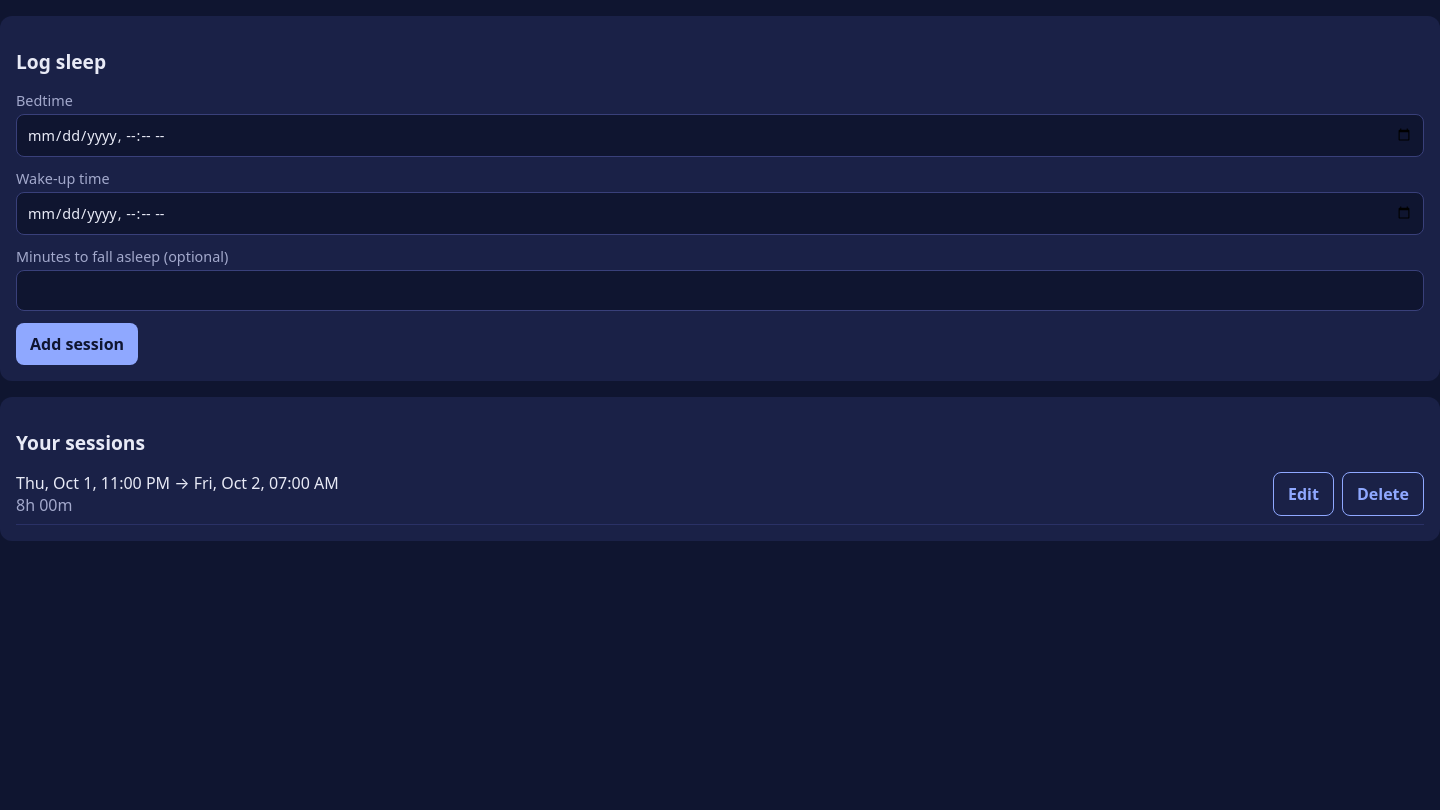
Scenario: SleepSessions › edits a session with PUT
Click the button "Edit" at (1303, 494), box x1=1273 y1=472 x2=1334 y2=516
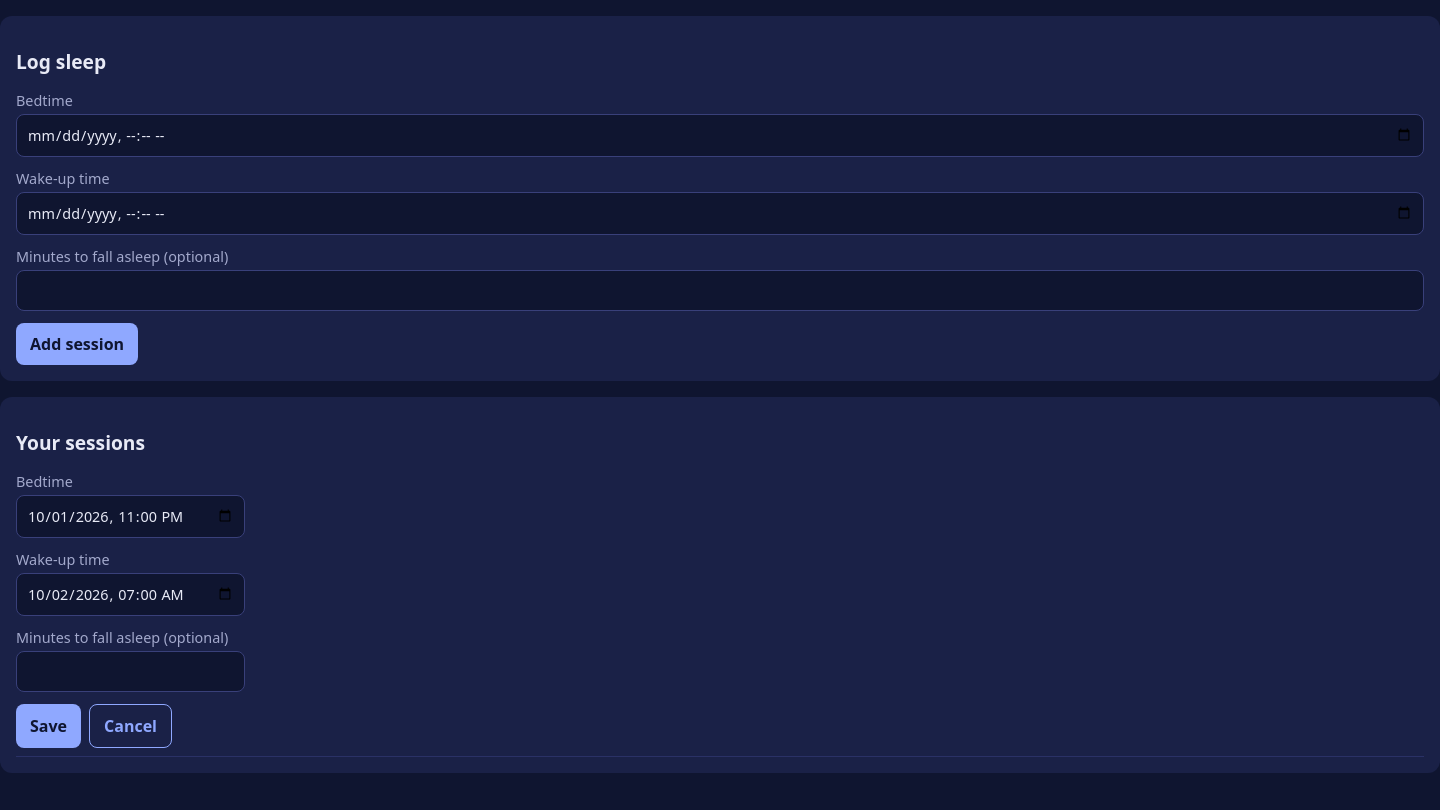
Replace the text in the field labelled "Wake-up time" below "Your sessions" with "2026-10-02T06:30" at (130, 594), box x1=16 y1=573 x2=245 y2=616
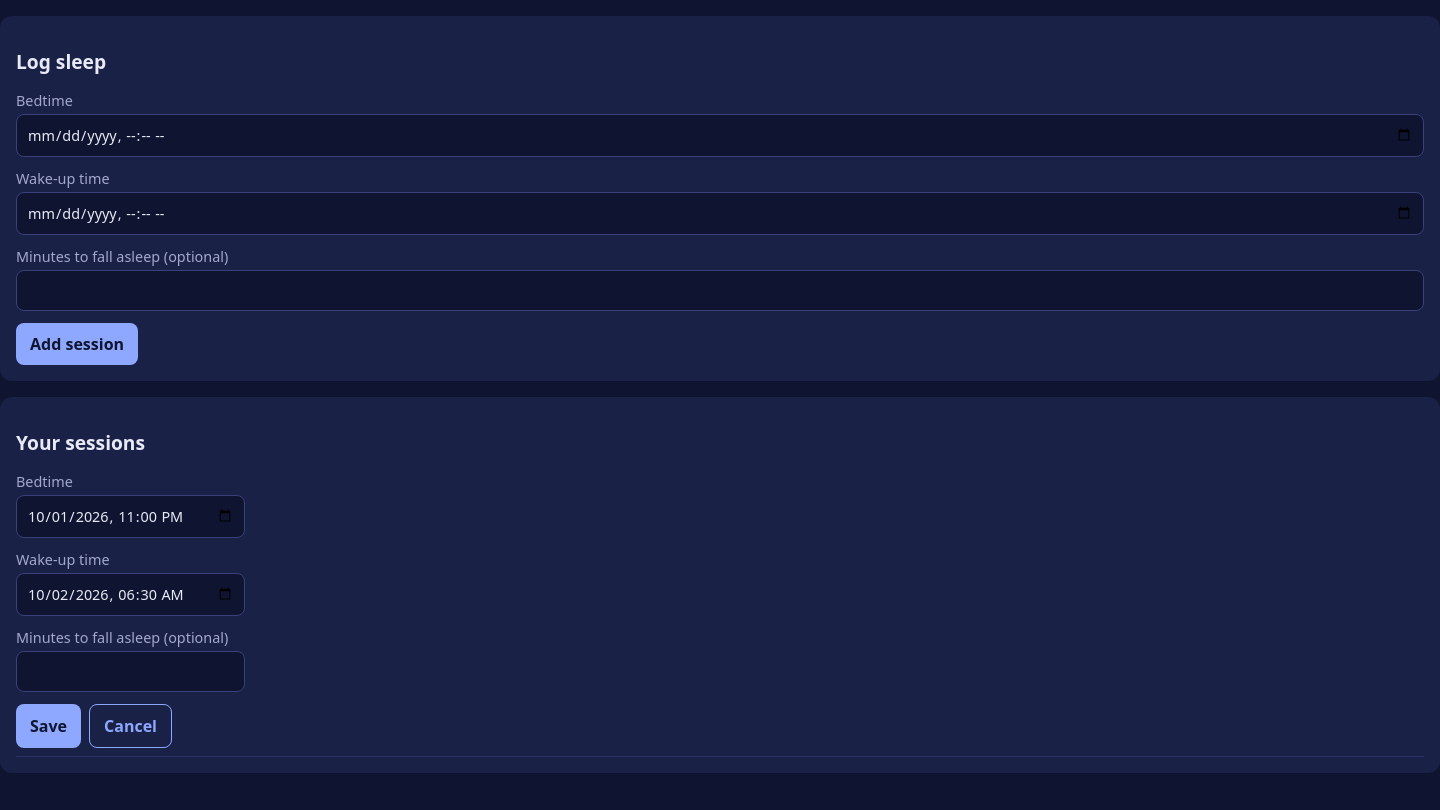
Click the button "Save" at (48, 726), box x1=16 y1=704 x2=81 y2=748
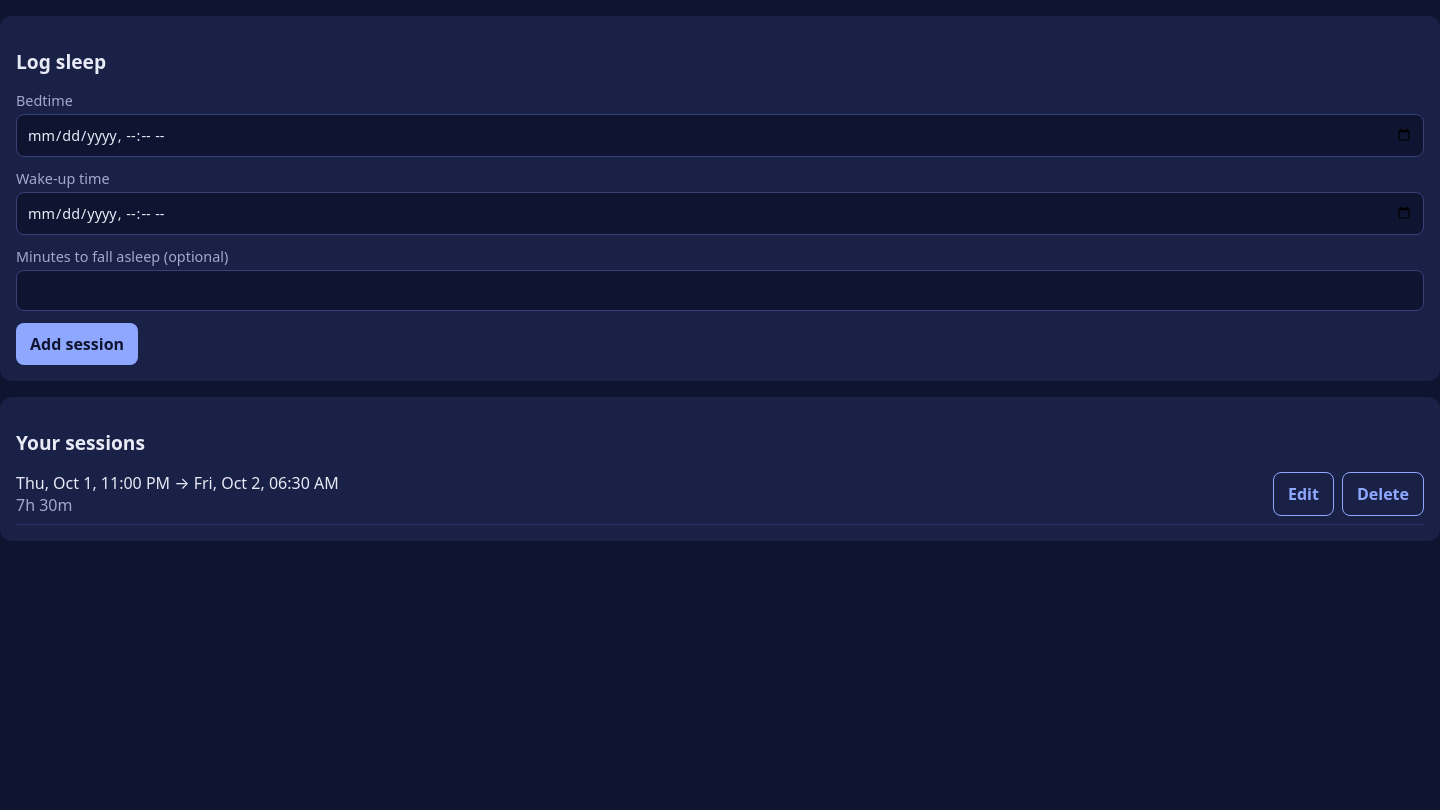
Check: the text "7h 30m" is shown, box x1=16 y1=494 x2=72 y2=516
